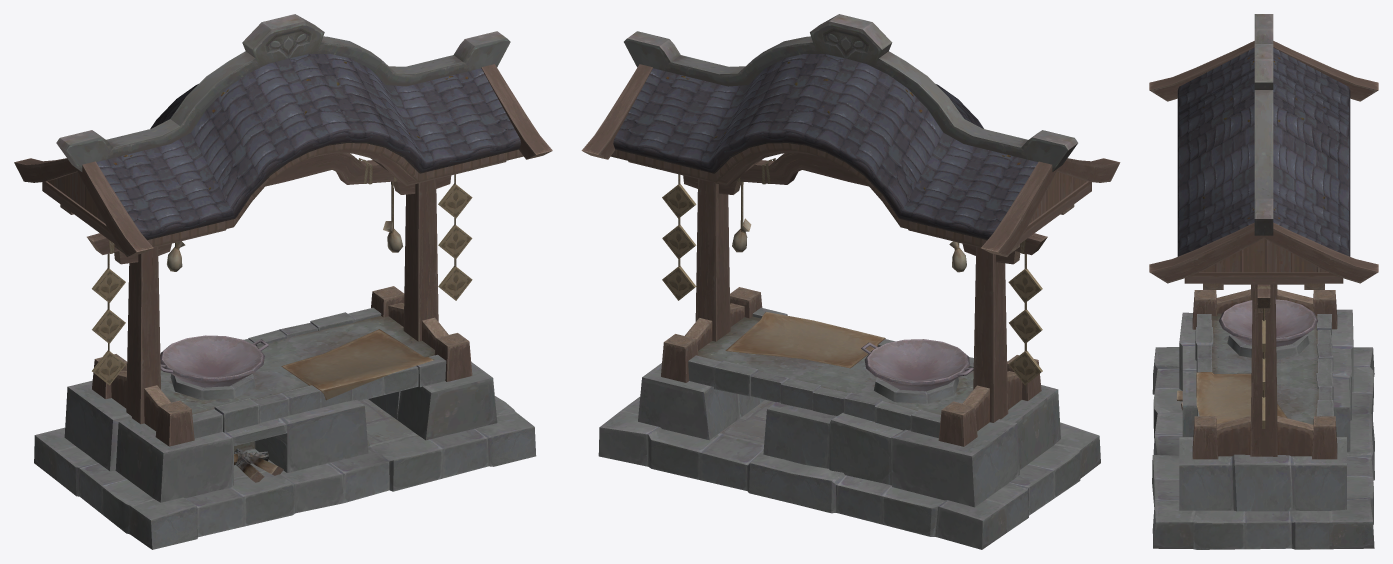
Rendered from Homeworld_Exterior_Cyg_Build_Prop_Tingzi_01_Lod0.fbx.
3 renders of one model, left to right at view 1: azimuth 30°, elevation 25°; view 2: azimuth 150°, elevation 25°; view 3: azimuth 270°, elevation 25°, orthographic. The views are drawn at different scales.
Visible parts, largest first — view 1: Area_Cyg_Prop_QYZ_Tinzi_01_Lod0; view 2: Area_Cyg_Prop_QYZ_Tinzi_01_Lod0; view 3: Area_Cyg_Prop_QYZ_Tinzi_01_Lod0.
Boxes of the visible parts, <box> form: Area_Cyg_Prop_QYZ_Tinzi_01_Lod0: <box>14,14,552,549</box>; Area_Cyg_Prop_QYZ_Tinzi_01_Lod0: <box>581,14,1120,549</box>; Area_Cyg_Prop_QYZ_Tinzi_01_Lod0: <box>1149,14,1378,549</box>.
Bounding box in the file's own units: 3.73 × 3.51 × 1.79.
